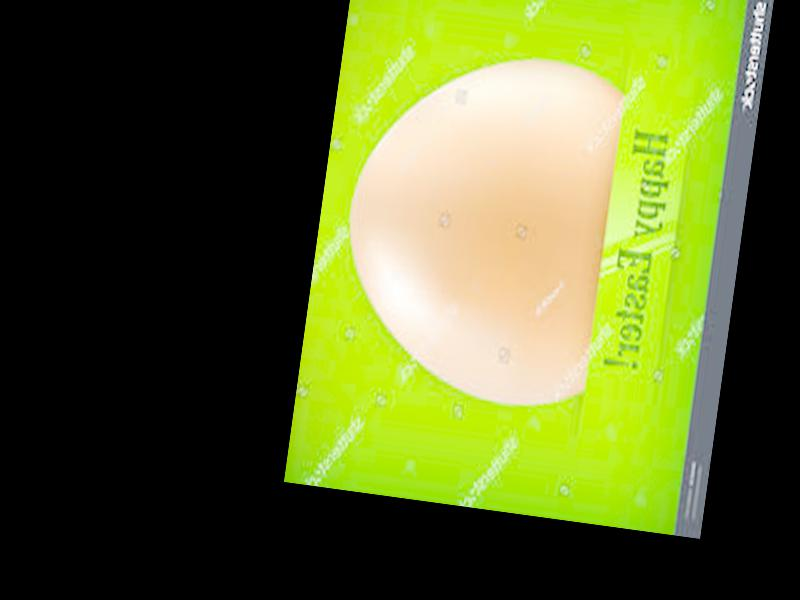Eggs: (327, 38, 627, 413)
